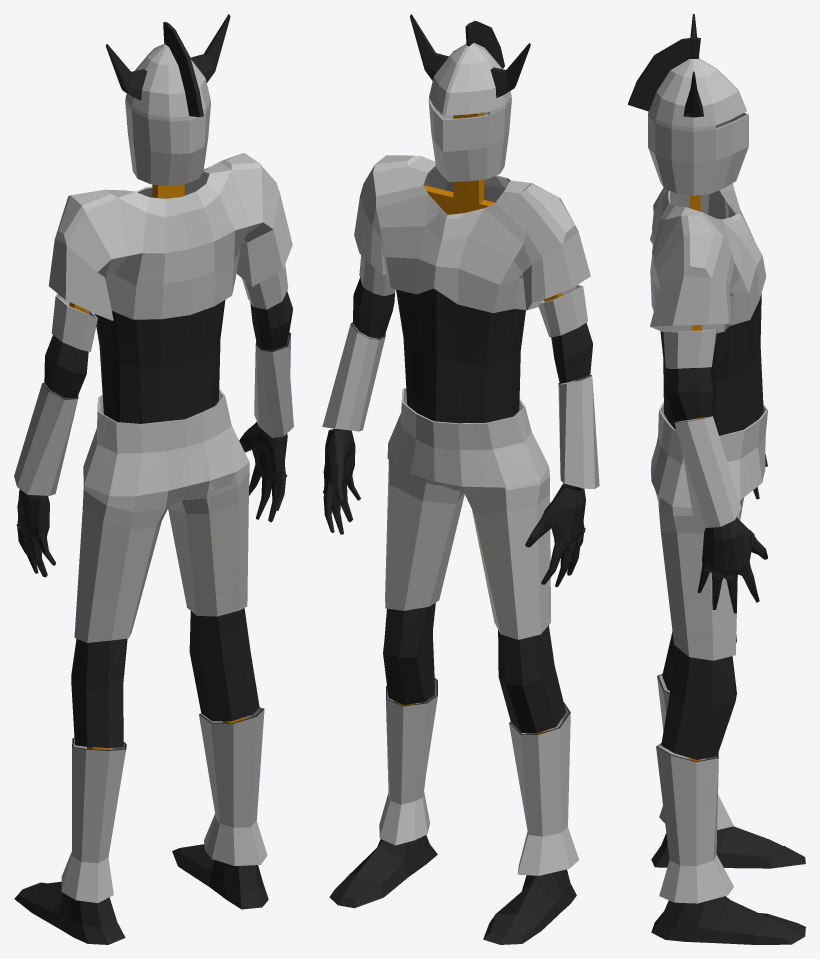
File: FullSetWithArmorStand.fbx
3 views of the same model, side by side, from view 1: azimuth 30°, elevation 25°; view 2: azimuth 150°, elevation 25°; view 3: azimuth 270°, elevation 25° (orthographic). The views are drawn at different scales.
Visible parts, largest first — view 1: FullSetWithArmorStand; view 2: FullSetWithArmorStand; view 3: FullSetWithArmorStand.
Part boxes in pixels (<box>): FullSetWithArmorStand: <box>14,14,293,944</box>; FullSetWithArmorStand: <box>322,14,599,944</box>; FullSetWithArmorStand: <box>628,14,805,944</box>.
Bounding box in the file's own units: 55.36 × 170 × 31.88.
